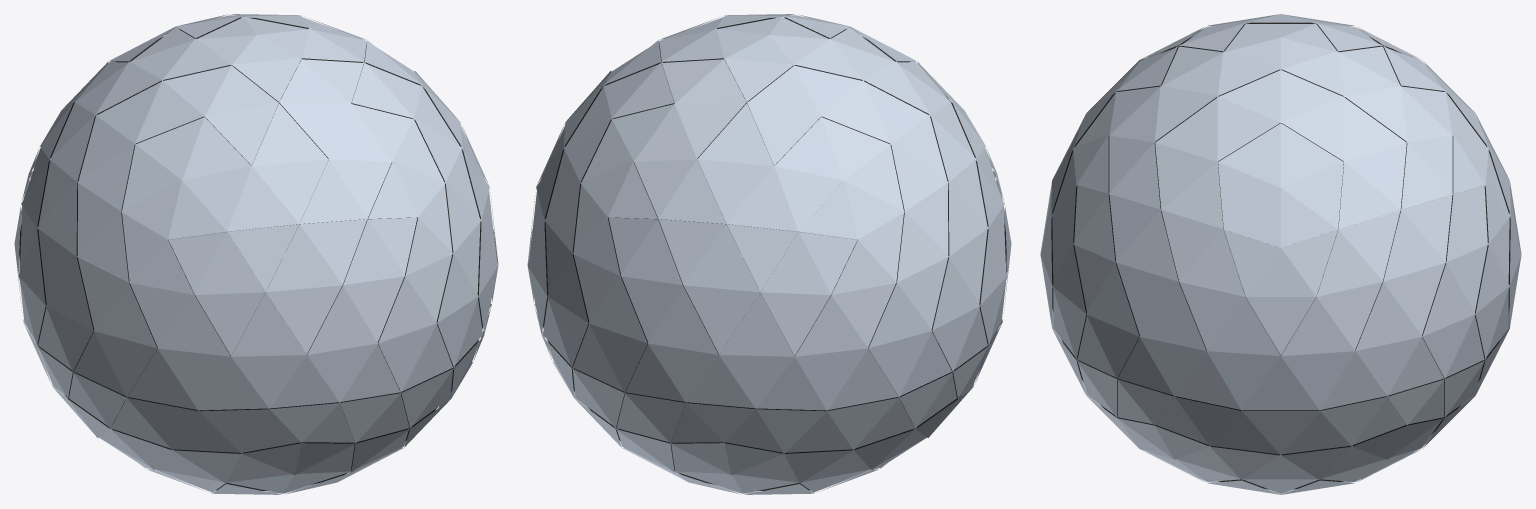
The model's file is discoball.fbx.
The picture shows the model from 3 angles, left to right: view 1: azimuth 30°, elevation 25°; view 2: azimuth 150°, elevation 25°; view 3: azimuth 270°, elevation 25°; orthographic projection.
Visible parts, largest first — view 1: Disco Ball; view 2: Disco Ball; view 3: Disco Ball.
Boxes of the visible parts, x1,y1,x2,y2 form: Disco Ball: (14, 14, 498, 494); Disco Ball: (527, 14, 1011, 494); Disco Ball: (1040, 14, 1521, 494).
Size of the model in its own units: 24.12 by 24 by 24.12.
